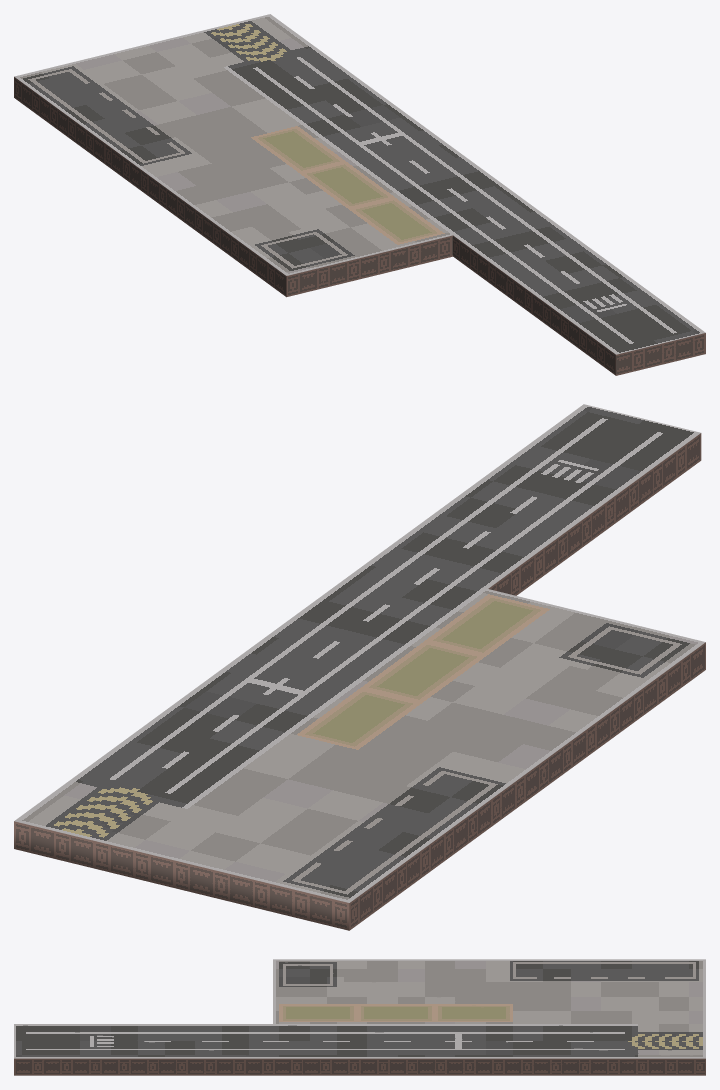
Rendered from 0274_Airport.glb.
3 renders of one model, top to bottom at view 1: azimuth 30°, elevation 25°; view 2: azimuth 150°, elevation 25°; view 3: azimuth 270°, elevation 25°, orthographic. The views are drawn at different scales.
Parts seen in each view (by area): view 1: part_0; view 2: part_0; view 3: part_0.
Part boxes in pixels (bbox=[...]): part_0: bbox=[14, 14, 705, 375]; part_0: bbox=[14, 404, 705, 930]; part_0: bbox=[14, 959, 705, 1075].
Bounding box in the file's own units: 190 × 15 × 559.
Materials: 1 (1 with a texture image).
